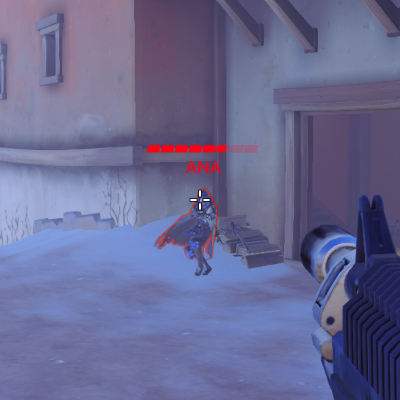hpbar: (147, 145, 258, 153)
